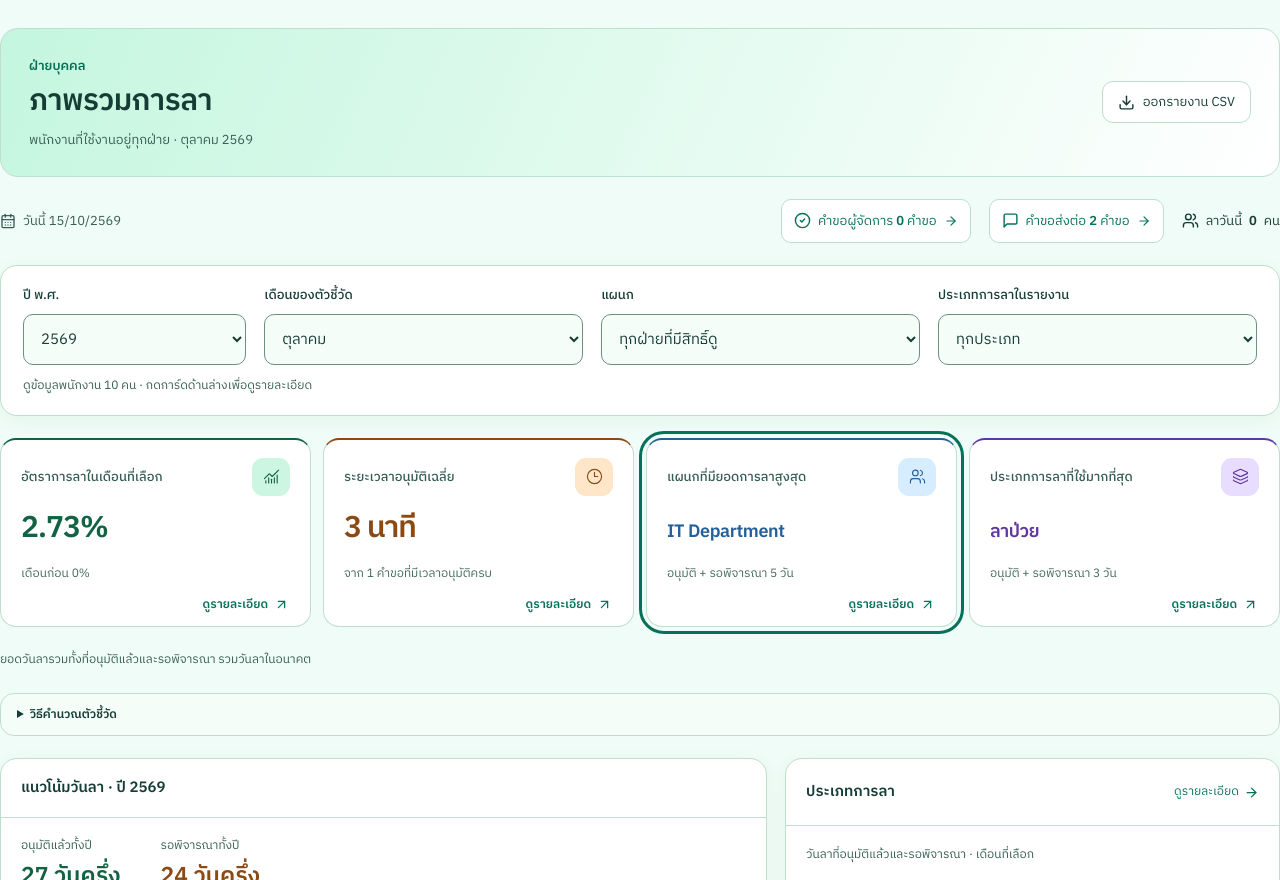
KPI แผนกที่มียอดการลาสูงสุด opens a closable dialog and restores focus and filters
Click the button with aria-label "ดูรายละเอียดแผนกที่มียอดการลาสูงสุด".
click(802, 532)  # box [646,438,957,627]
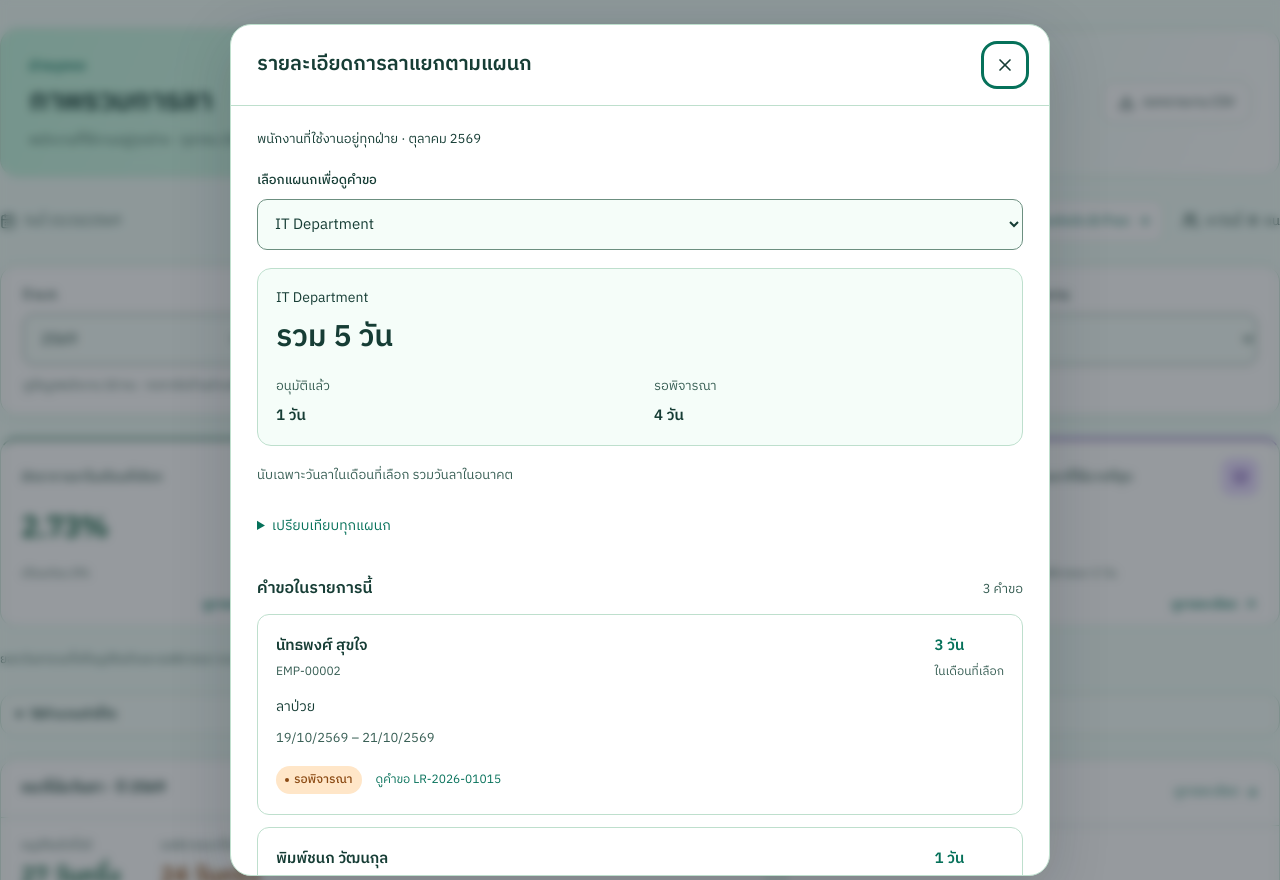
Expected: the dialog "รายละเอียดการลาแยกตามแผนก" is shown
Click the button named "ปิด".
click(1005, 65)  # box [987,47,1023,83]
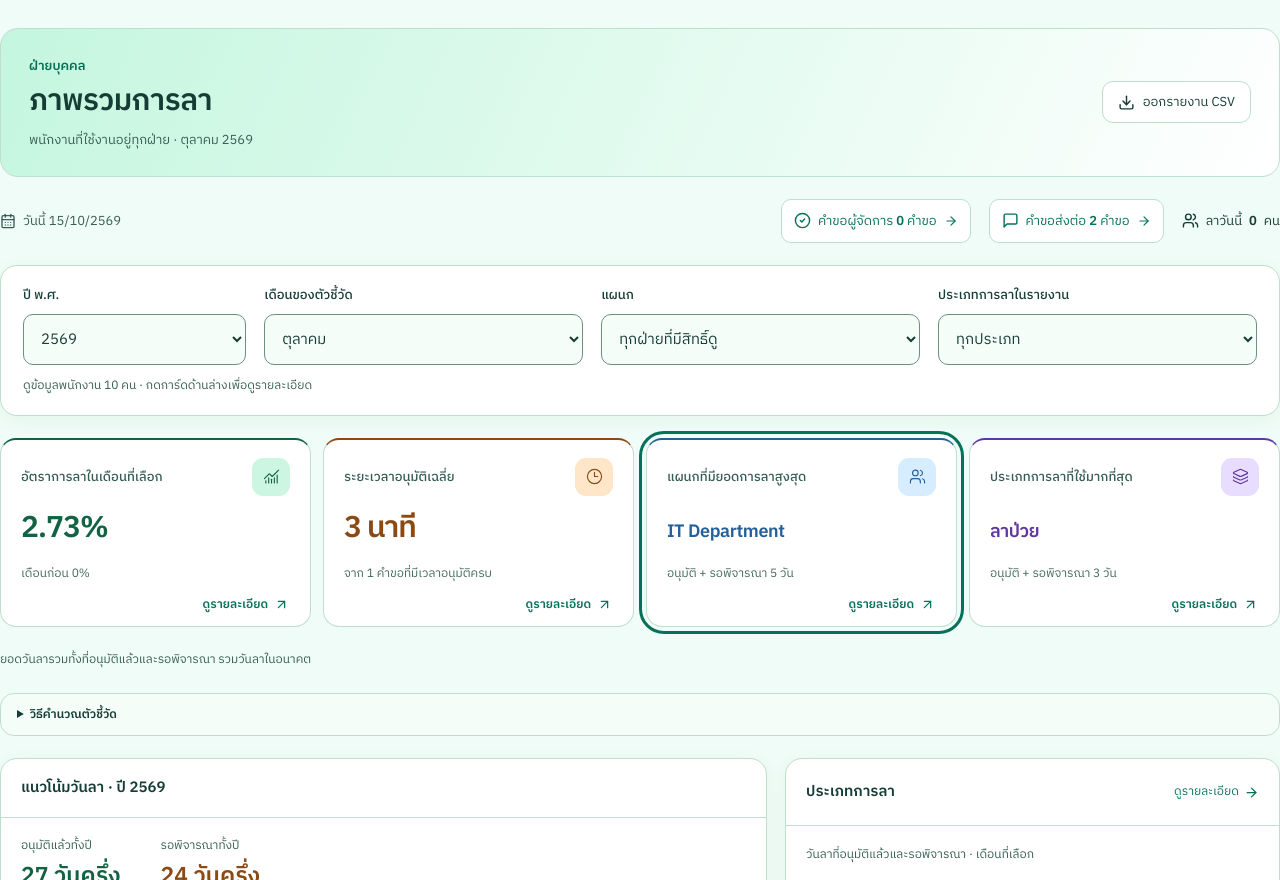
Expected: the dropdown labelled "เดือนของตัวชี้วัด" shows "ตุลาคม", [264,314,583,365]
Expected: the dialog is gone
